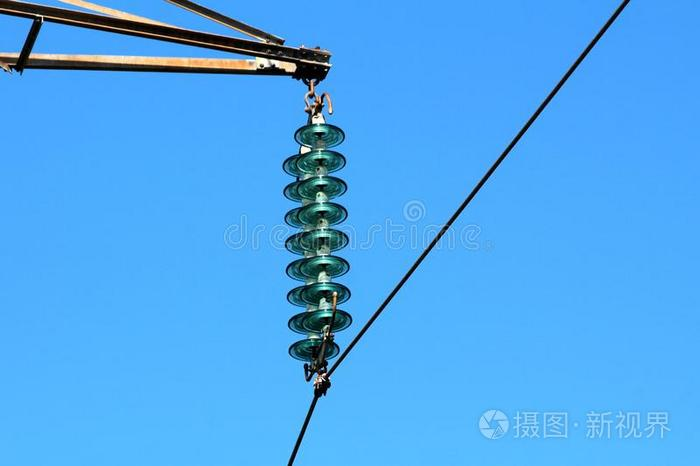insulator: (283, 123, 352, 363)
